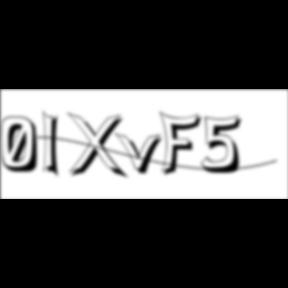0: (1, 115, 46, 174)
5: (200, 114, 248, 176)
F: (159, 110, 207, 178)
X: (67, 112, 131, 182)
l: (44, 108, 66, 182)
v: (115, 131, 169, 177)
